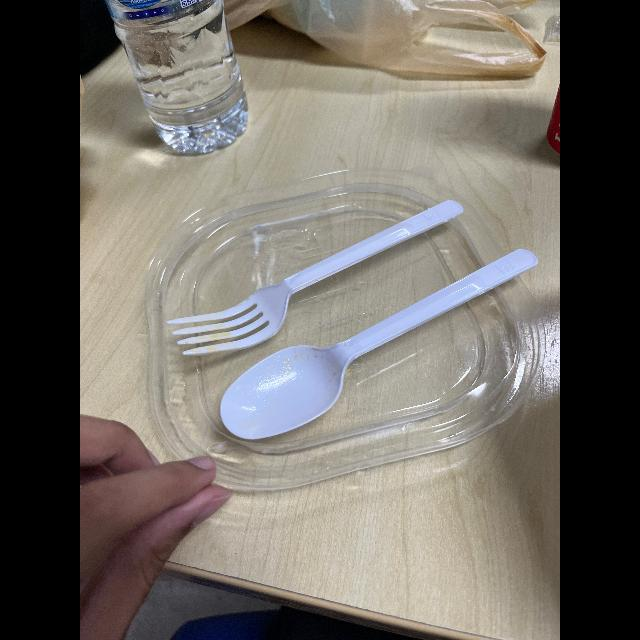plastic_cultery: (199, 242, 537, 438), (160, 178, 466, 358)
